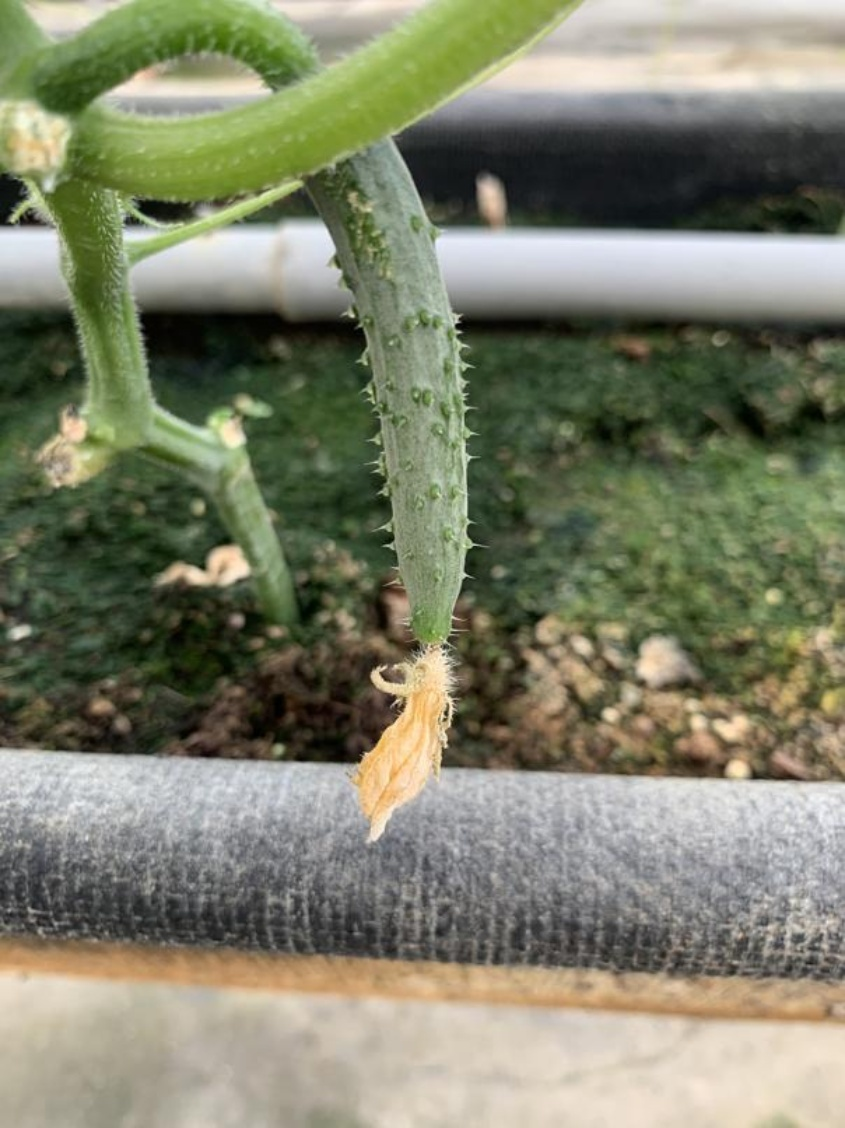bear: (290, 194, 530, 844)
